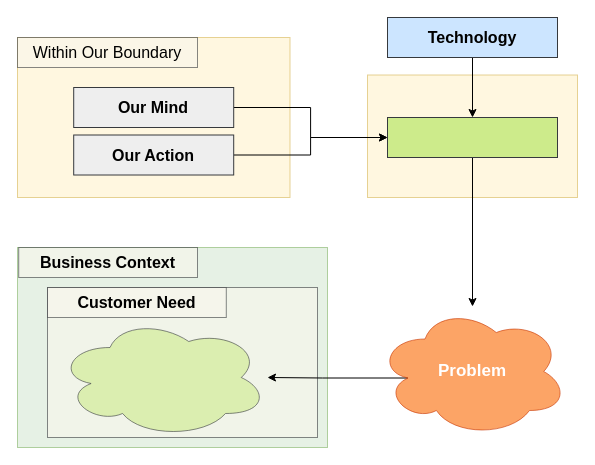
The diagram is 595 pixels wide and 465 high, and some of its shapes have lost their labels. The box of each missing label's shape, as (x1, y1, x2, y2) in pixels:
Design Thinking: (386, 116, 558, 158)
Problem Solved: (56, 316, 268, 438)
